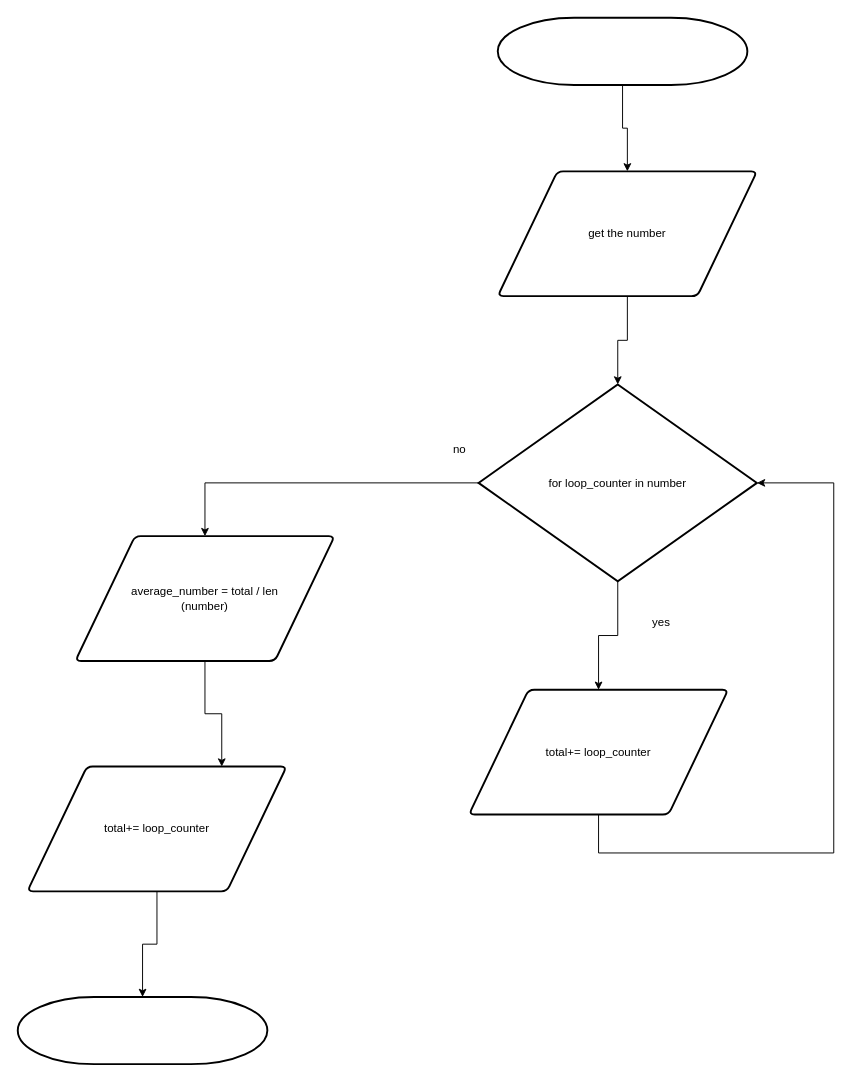
The diagram is 858 pixels wide and 1081 high, and some of its shapes have lost their labels. The shapes that lost their labels are listed below. From the top down, each one's centre as x and y in pixels, then its label:
At (622,50): "Start".
At (142,1030): "Stop".
